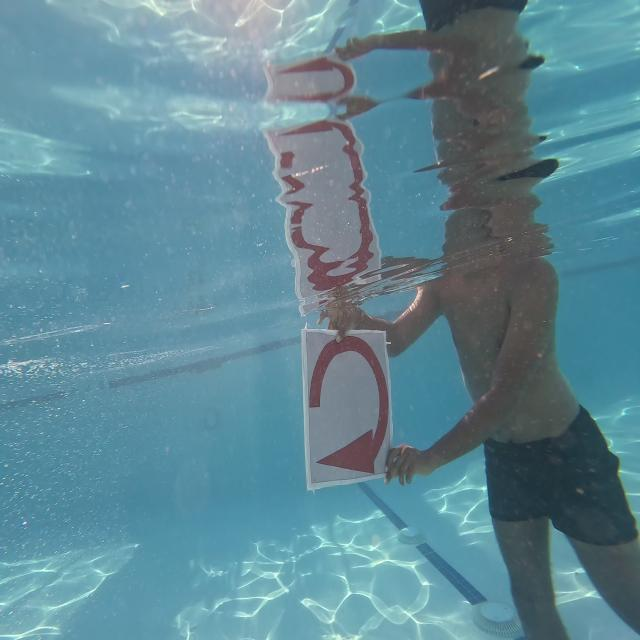red_side: (301, 326, 393, 487)
